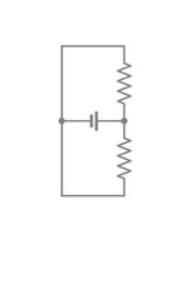resistor: (109, 124, 142, 188), (110, 50, 140, 114)
